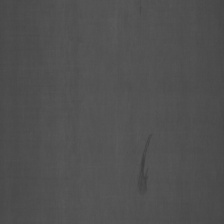water_spot: (133, 131, 156, 201)
